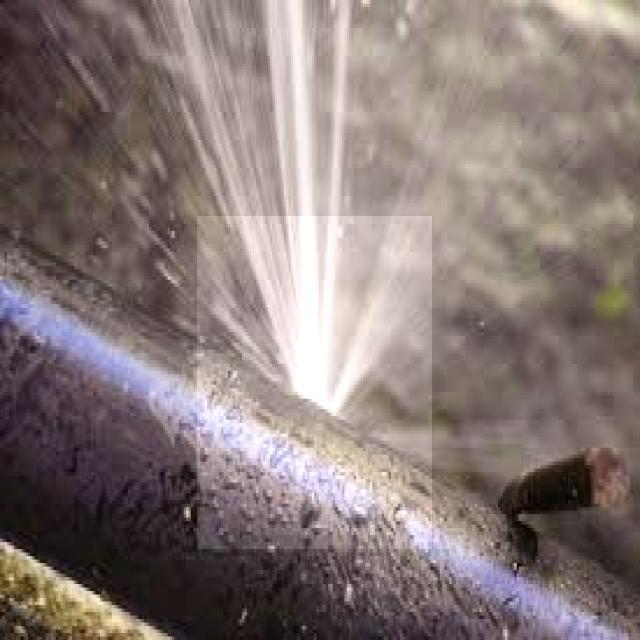corrosion: (250, 239, 355, 429)
